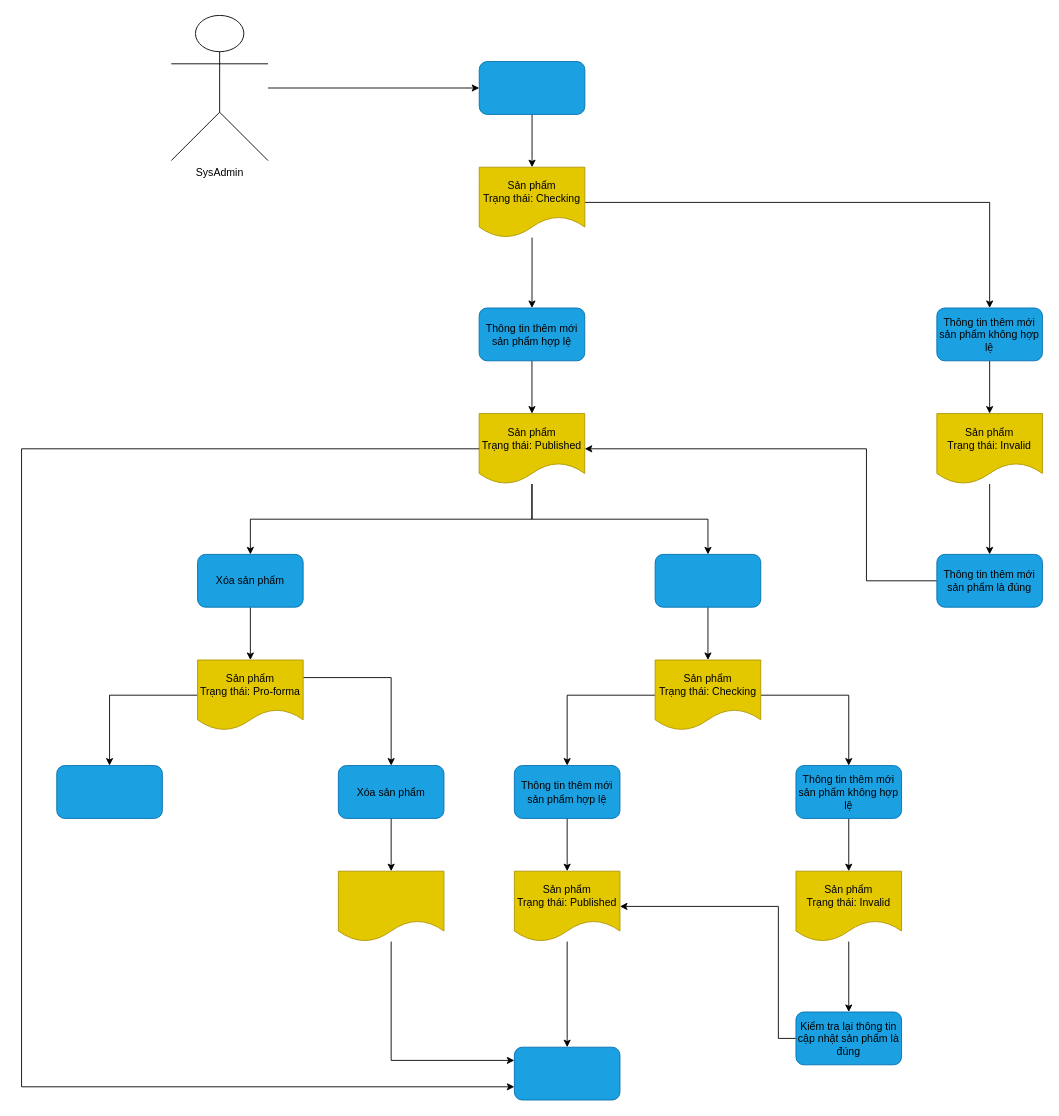
Some shapes in this 1059 by 1116 pixel diagram are drawn without their labels. The shapes that lost their labels are listed below. From the top down, each one's centre as x and y in pixels, then its label:
At (x=531, y=87): "Thêm sản phẩm mới".
At (x=707, y=580): "Cập nhật sản phẩm".
At (x=109, y=791): "Hủy bỏ xóa sản phẩm".
At (x=390, y=906): "Sản phẩm Trạng thái: Deleted".
At (x=566, y=1073): "Cập nhật và lưu trữ".
